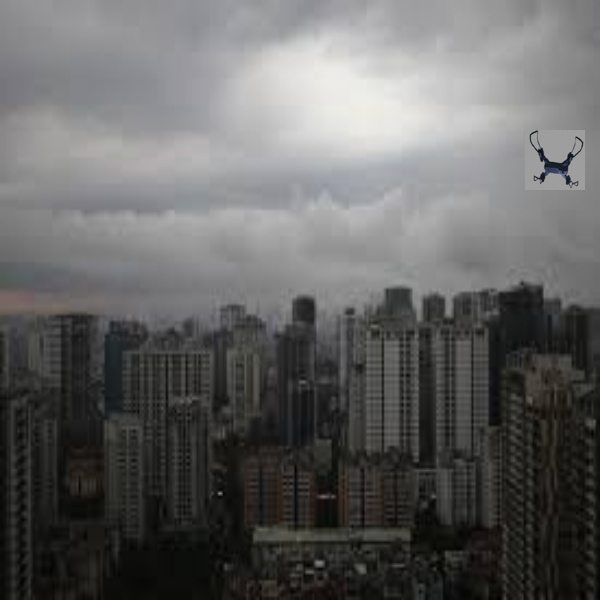drone: (525, 124, 589, 193)
